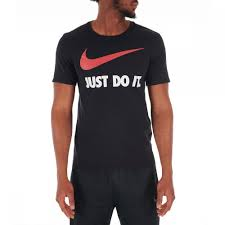nike: (71, 32, 152, 77)
